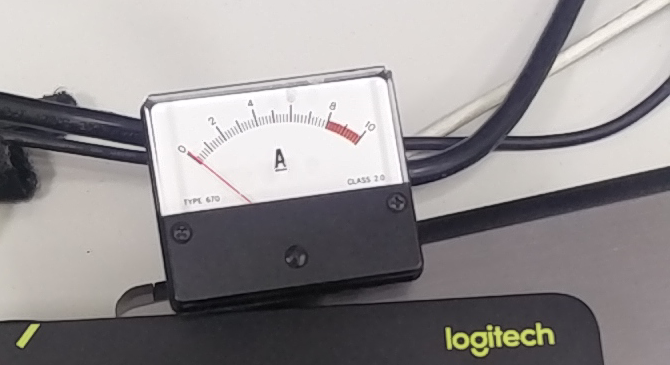Amp_Meter: (142, 75, 407, 216)
